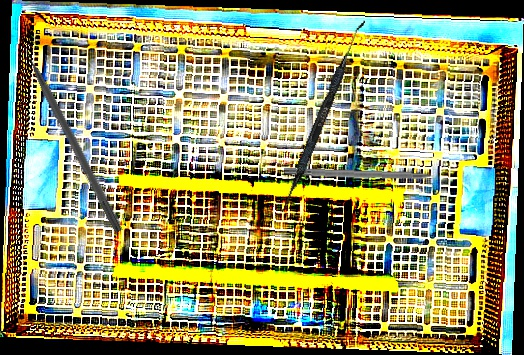Hook Surgical: (283, 167, 453, 183)
Pusher: (14, 32, 126, 234)
Spatula Surgical: (279, 16, 366, 216)
